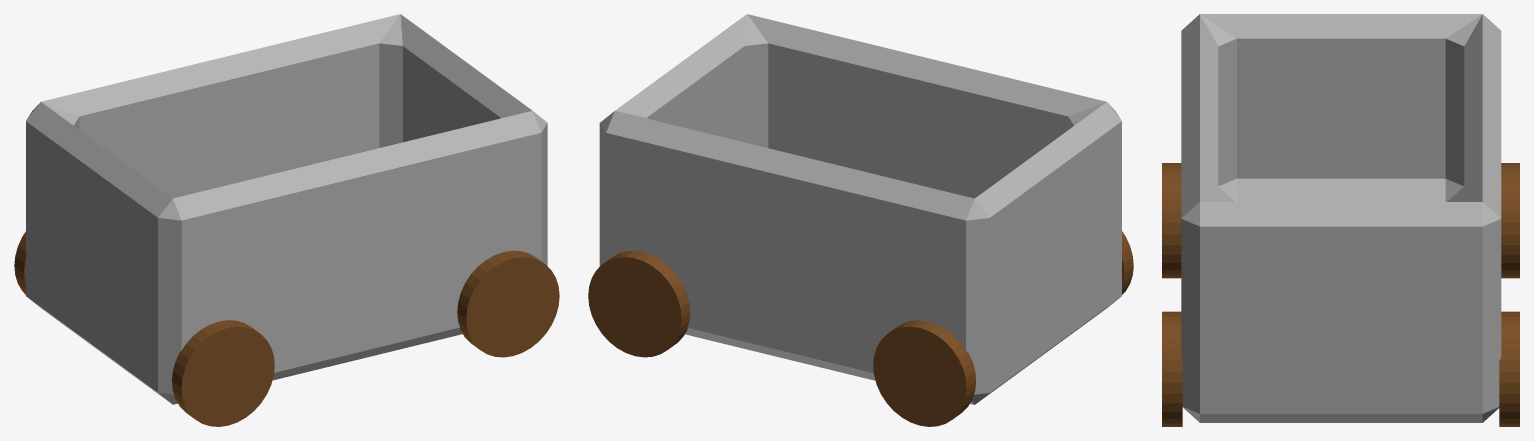
Rendered from lore.fbx.
3 views of the same model, side by side, from view 1: azimuth 30°, elevation 25°; view 2: azimuth 150°, elevation 25°; view 3: azimuth 270°, elevation 25° (orthographic). The views are drawn at different scales.
Visible parts, largest first — view 1: Cylinder.001; view 2: Cylinder.001; view 3: Cylinder.001.
Part boxes in pixels (x1,y1,x2,y2): Cylinder.001: (14, 14, 559, 426); Cylinder.001: (588, 14, 1133, 426); Cylinder.001: (1162, 14, 1519, 426).
Bounding box in the file's own units: 200 × 110 × 149.
